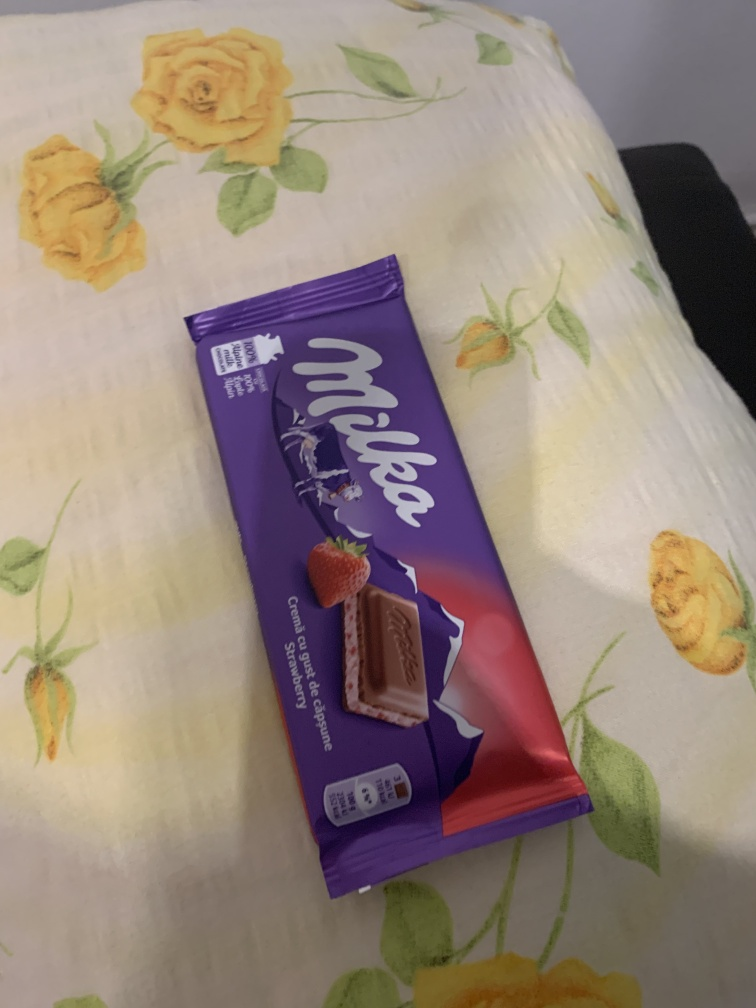milka: (178, 252, 602, 921)
